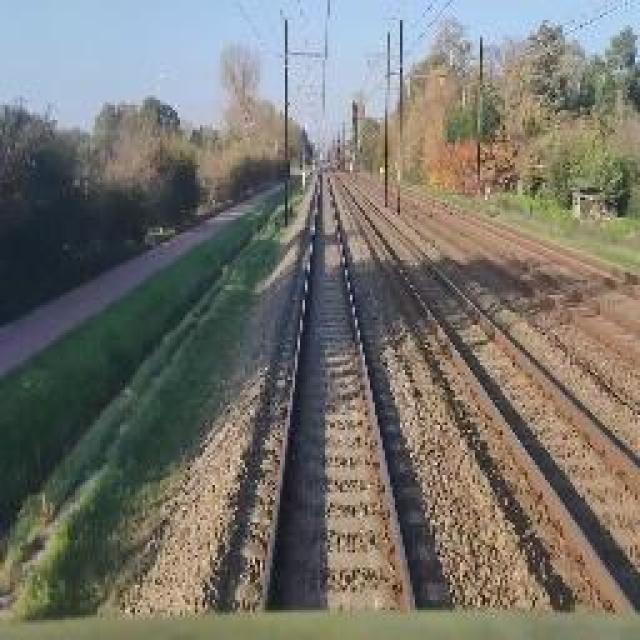rail: (207, 163, 640, 616)
